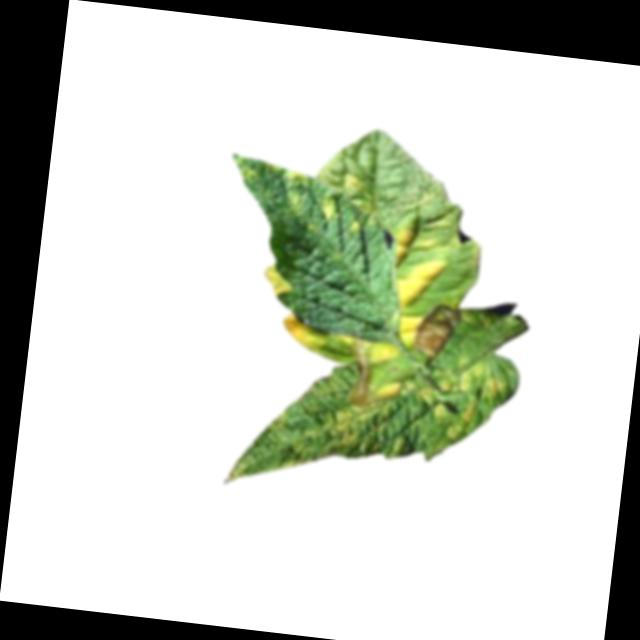Leaf_Mold: (419, 356, 510, 444), (317, 389, 396, 463), (391, 254, 452, 312), (279, 312, 328, 351), (390, 219, 429, 267), (279, 166, 317, 215), (361, 336, 400, 367), (398, 307, 426, 348), (261, 263, 296, 295), (343, 169, 373, 193), (319, 196, 343, 224)
